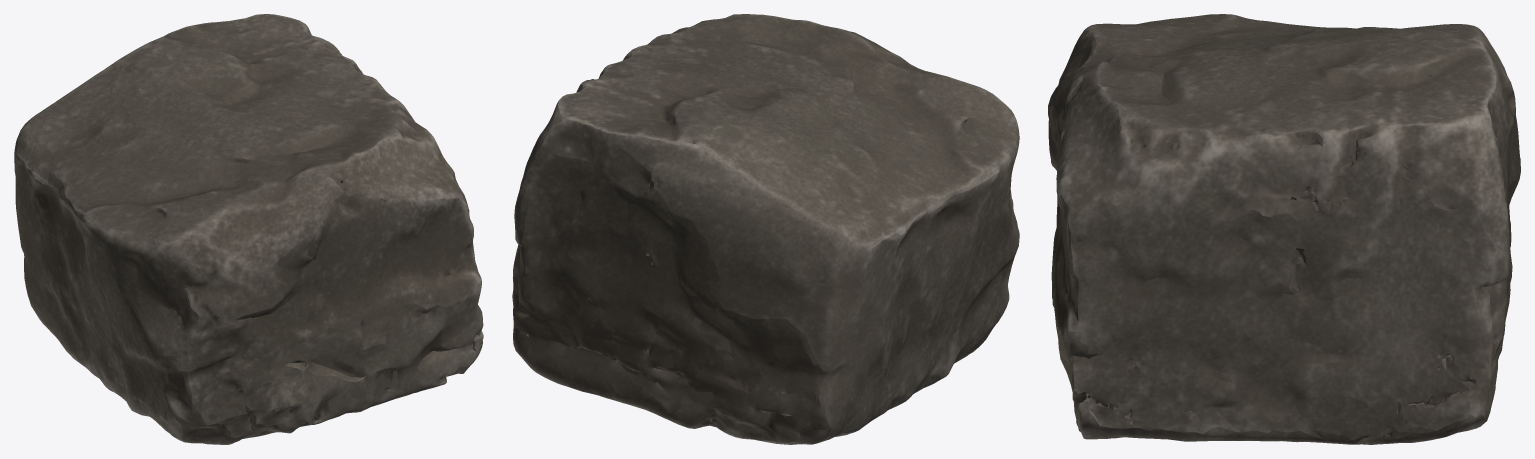
3 views of the same model, side by side, from view 1: azimuth 30°, elevation 25°; view 2: azimuth 150°, elevation 25°; view 3: azimuth 270°, elevation 25° (orthographic). The views are drawn at different scales.
Parts seen in each view (by area): view 1: world; view 2: world; view 3: world.
Part boxes in pixels (x1,y1,x2,y2): world: (14, 14, 483, 444); world: (512, 14, 1019, 444); world: (1048, 14, 1520, 444).
Size of the model in its own units: 1.2 by 0.9209 by 1.18.
Materials: 1 (1 with a texture image).
